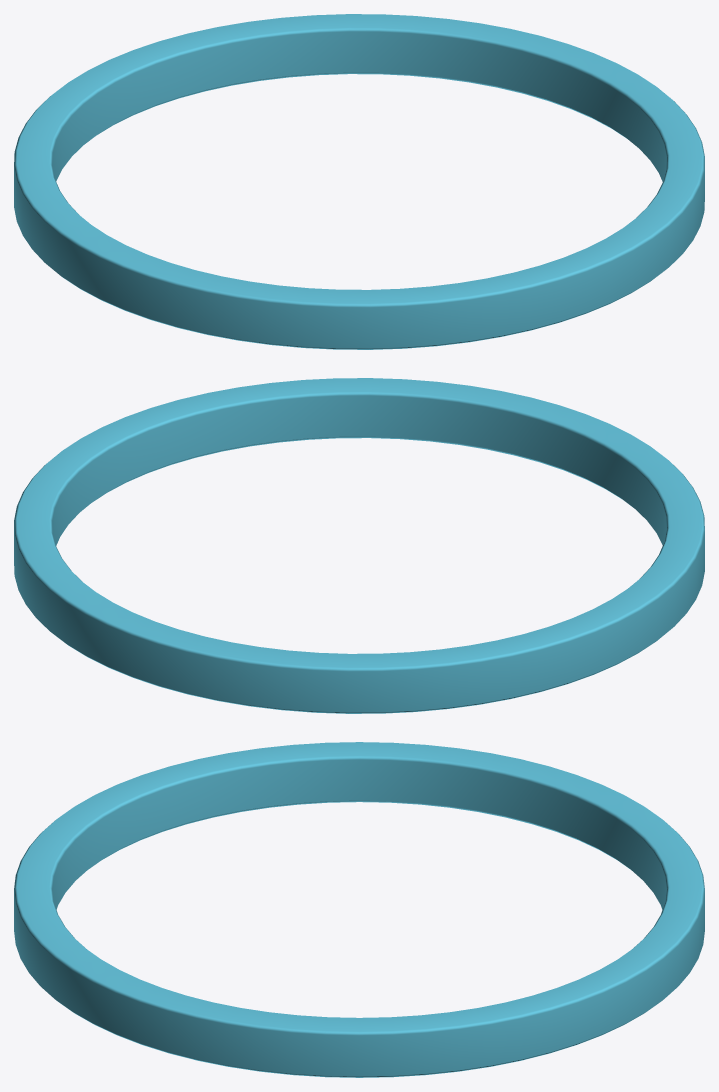
3 renders of one model, top to bottom at view 1: azimuth 30°, elevation 25°; view 2: azimuth 150°, elevation 25°; view 3: azimuth 270°, elevation 25°, orthographic.
Parts seen in each view (by area): view 1: seal_body; view 2: seal_body; view 3: seal_body.
Boxes of the visible parts, x1,y1,x2,y2 form: seal_body: (14, 14, 704, 349); seal_body: (14, 378, 704, 713); seal_body: (14, 742, 704, 1077).
Size of the model in its own units: 0.0857 by 0.00635 by 0.0857.
